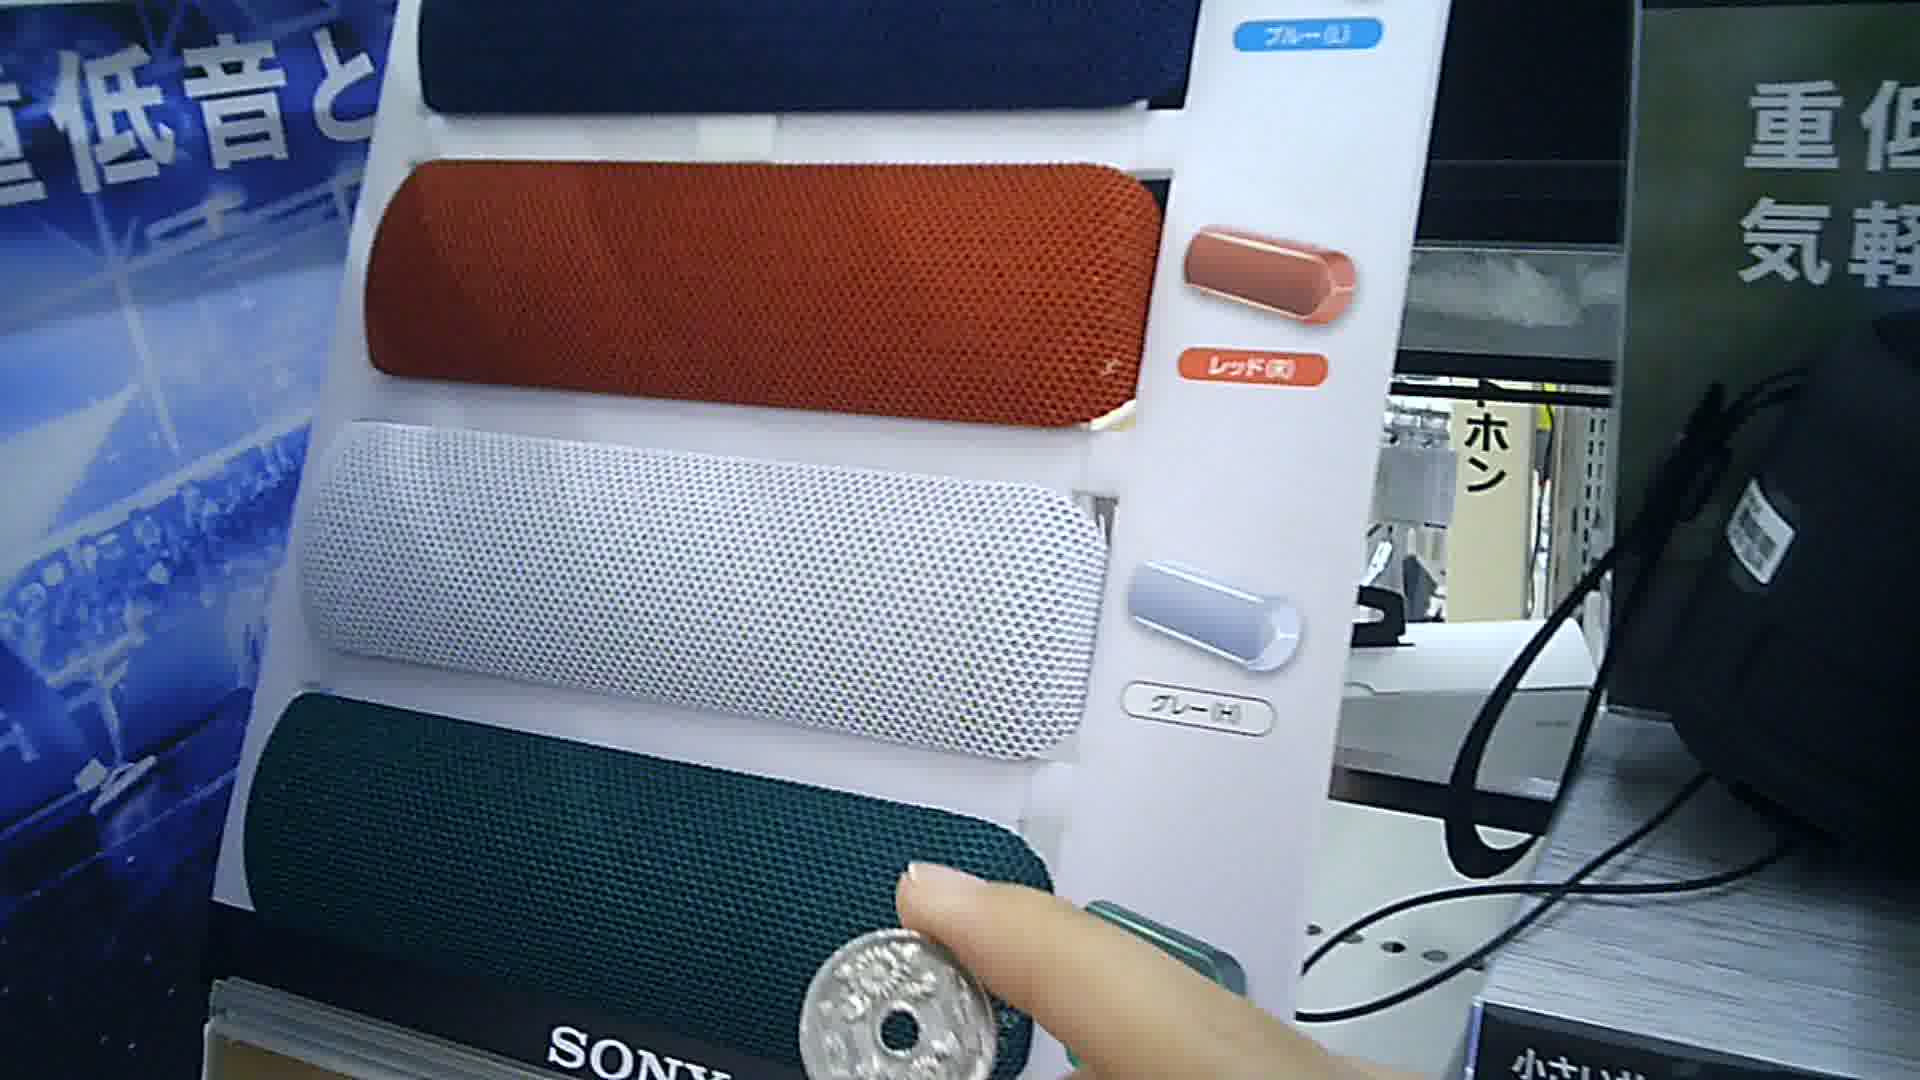50 Yen: (800, 931, 996, 1079)
